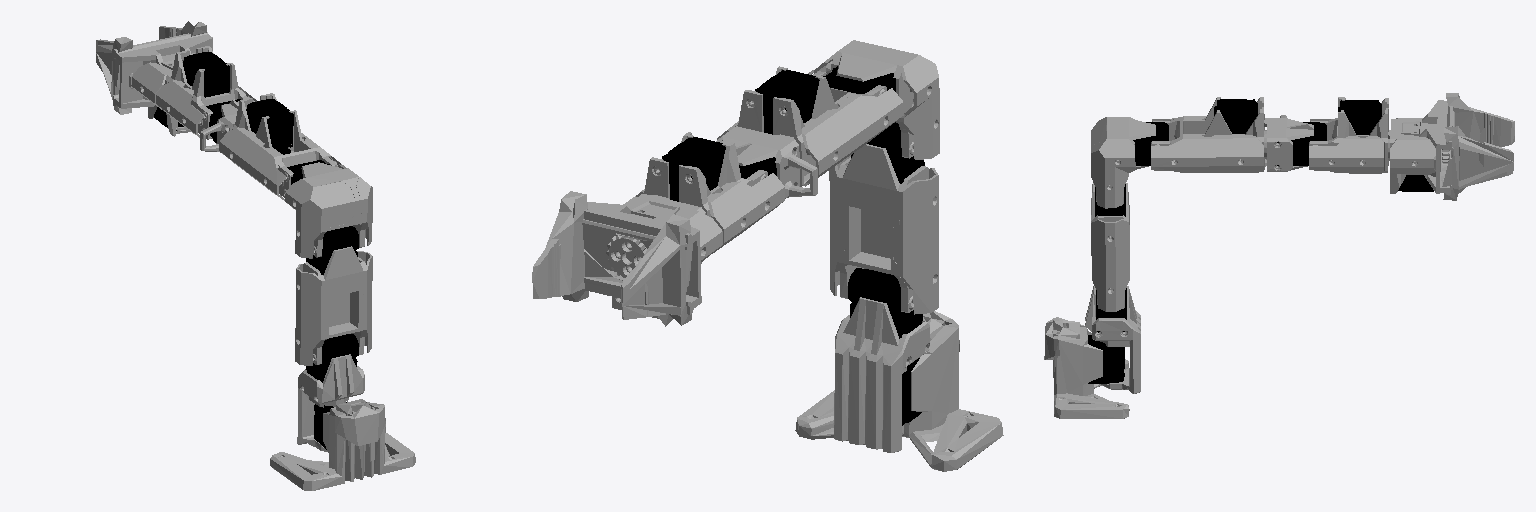
The robot description file, URDF, robot "Elrobot":
<?xml version="1.0" ?>
<robot name="Elrobot" >
  <material name="silver">
    <color rgba="0.700 0.700 0.700 1.000"/>
  </material>
  <material name="ST3215_1_1">
    <color rgba="0.00 0.00 0.00 1.000"/>
  </material>
  <material name="ST3215_2_1">
    <color rgba="0.00 0.00 0.00 1.000"/>
  </material>
  <material name="ST3215_3_1">
    <color rgba="0.00 0.00 0.00 1.000"/>
  </material>
  <material name="ST3215_4_1">
    <color rgba="0.00 0.00 0.00 1.000"/>
  </material>
  <material name="ST3215_5_1">
    <color rgba="0.00 0.00 0.00 1.000"/>
  </material>
  <material name="ST3215_6_1">
    <color rgba="0.00 0.00 0.00 1.000"/>
  </material>
  <material name="ST3215_7_1">
    <color rgba="0.00 0.00 0.00 1.000"/>
  </material>
  <material name="ST3215_8_1">
    <color rgba="0.00 0.00 0.00 1.000"/>
  </material>
  <link name="base_link">
    <inertial>
      <origin xyz="4.1532032114359136e-10 0.013084111185471562 0.019551044495005637" rpy="0 0 0"/>
      <mass value="0.06831242050694149"/>
      <inertia ixx="3.6e-05" iyy="5.9e-05" izz="5.1e-05" ixy="0.0" iyz="8e-06" ixz="-0.0"/>
    </inertial>
    <visual>
      <origin xyz="0 0 0" rpy="0 0 0"/>
      <geometry>
        <mesh filename="base_link.stl" scale="0.001 0.001 0.001"/>
      </geometry>
      <material name="silver"/>
    </visual>
    <collision>
      <origin xyz="0 0 0" rpy="0 0 0"/>
      <geometry>
        <mesh filename="base_link.stl" scale="0.001 0.001 0.001"/>
      </geometry>
    </collision>
  </link>
  <link name="ST3215_1_v1_1">
    <inertial>
      <origin xyz="4.076346987608891e-06 0.022690161600370684 -0.0014235772611572647" rpy="0 0 0"/>
      <mass value="0.03190666159632515"/>
      <inertia ixx="8e-06" iyy="4e-06" izz="7e-06" ixy="0.0" iyz="-0.0" ixz="0.0"/>
    </inertial>
    <visual>
      <origin xyz="-0.0 -0.007585 -0.0315" rpy="0 0 0"/>
      <geometry>
        <mesh filename="ST3215_1_v1_1.stl" scale="0.001 0.001 0.001"/>
      </geometry>
      <material name="ST3215_1_1"/>
    </visual>
    <collision>
      <origin xyz="-0.0 -0.007585 -0.0315" rpy="0 0 0"/>
      <geometry>
        <mesh filename="ST3215_1_v1_1.stl" scale="0.001 0.001 0.001"/>
      </geometry>
    </collision>
  </link>
  <link name="Joint_01_1">
    <inertial>
      <origin xyz="0.00019293358229791917 0.01053544085767251 -0.002903406181002266" rpy="0 0 0"/>
      <mass value="0.036024842090469696"/>
      <inertia ixx="2e-05" iyy="2e-05" izz="1e-05" ixy="0.0" iyz="4e-06" ixz="-0.0"/>
    </inertial>
    <visual>
      <origin xyz="-0.0 -0.042489 -0.049005" rpy="0 0 0"/>
      <geometry>
        <mesh filename="Joint_01_1.stl" scale="0.001 0.001 0.001"/>
      </geometry>
      <material name="silver"/>
    </visual>
    <collision>
      <origin xyz="-0.0 -0.042489 -0.049005" rpy="0 0 0"/>
      <geometry>
        <mesh filename="Joint_01_1.stl" scale="0.001 0.001 0.001"/>
      </geometry>
    </collision>
  </link>
  <link name="ST3215_2_v1_1">
    <inertial>
      <origin xyz="-0.0014235768458915805 -0.00019407288276004214 0.02268943356342234" rpy="0 0 0"/>
      <mass value="0.03190666159632515"/>
      <inertia ixx="7e-06" iyy="8e-06" izz="4e-06" ixy="0.0" iyz="0.0" ixz="-0.0"/>
    </inertial>
    <visual>
      <origin xyz="-0.000625 -0.042431 -0.055705" rpy="0 0 0"/>
      <geometry>
        <mesh filename="ST3215_2_v1_1.stl" scale="0.001 0.001 0.001"/>
      </geometry>
      <material name="ST3215_2_1"/>
    </visual>
    <collision>
      <origin xyz="-0.000625 -0.042431 -0.055705" rpy="0 0 0"/>
      <geometry>
        <mesh filename="ST3215_2_v1_1.stl" scale="0.001 0.001 0.001"/>
      </geometry>
    </collision>
  </link>
  <link name="Joint_02_1">
    <inertial>
      <origin xyz="0.020187292657891796 -0.0003607149418271213 0.04048886553547183" rpy="0 0 0"/>
      <mass value="0.04313419527395414"/>
      <inertia ixx="2.4e-05" iyy="3.4e-05" izz="1.7e-05" ixy="-0.0" iyz="0.0" ixz="0.0"/>
    </inertial>
    <visual>
      <origin xyz="0.019668 -0.042123 -0.090938" rpy="0 0 0"/>
      <geometry>
        <mesh filename="Joint_02_1.stl" scale="0.001 0.001 0.001"/>
      </geometry>
      <material name="silver"/>
    </visual>
    <collision>
      <origin xyz="0.019668 -0.042123 -0.090938" rpy="0 0 0"/>
      <geometry>
        <mesh filename="Joint_02_1.stl" scale="0.001 0.001 0.001"/>
      </geometry>
    </collision>
  </link>
  <link name="ST3215_3_v1_1">
    <inertial>
      <origin xyz="-0.0012258665484379326 -0.00019383890721715036 0.02270059947453923" rpy="0 0 0"/>
      <mass value="0.03190666159632515"/>
      <inertia ixx="7e-06" iyy="8e-06" izz="4e-06" ixy="0.0" iyz="0.0" ixz="-0.0"/>
    </inertial>
    <visual>
      <origin xyz="-0.000195 -0.041636 -0.146765" rpy="0 0 0"/>
      <geometry>
        <mesh filename="ST3215_3_v1_1.stl" scale="0.001 0.001 0.001"/>
      </geometry>
      <material name="ST3215_3_1"/>
    </visual>
    <collision>
      <origin xyz="-0.000195 -0.041636 -0.146765" rpy="0 0 0"/>
      <geometry>
        <mesh filename="ST3215_3_v1_1.stl" scale="0.001 0.001 0.001"/>
      </geometry>
    </collision>
  </link>
  <link name="Joint_03_v1_1">
    <inertial>
      <origin xyz="0.021383489206350224 0.0025973738142313213 0.028573272567347596" rpy="0 0 0"/>
      <mass value="0.03705485612134295"/>
      <inertia ixx="1.1e-05" iyy="1.8e-05" izz="1.5e-05" ixy="0.0" iyz="-1e-06" ixz="-0.0"/>
    </inertial>
    <visual>
      <origin xyz="0.01979 -0.041327 -0.182173" rpy="0 0 0"/>
      <geometry>
        <mesh filename="Joint_03_v1_1.stl" scale="0.001 0.001 0.001"/>
      </geometry>
      <material name="silver"/>
    </visual>
    <collision>
      <origin xyz="0.01979 -0.041327 -0.182173" rpy="0 0 0"/>
      <geometry>
        <mesh filename="Joint_03_v1_1.stl" scale="0.001 0.001 0.001"/>
      </geometry>
    </collision>
  </link>
  <link name="ST3215_4_v1_1">
    <inertial>
      <origin xyz="-0.0014236012890871546 0.022688801414757966 0.00021876985314867037" rpy="0 0 0"/>
      <mass value="0.03190666159632515"/>
      <inertia ixx="7e-06" iyy="4e-06" izz="8e-06" ixy="-0.0" iyz="-0.0" ixz="0.0"/>
    </inertial>
    <visual>
      <origin xyz="-0.001473 -0.04326 -0.218576" rpy="0 0 0"/>
      <geometry>
        <mesh filename="ST3215_4_v1_1.stl" scale="0.001 0.001 0.001"/>
      </geometry>
      <material name="ST3215_4_1"/>
    </visual>
    <collision>
      <origin xyz="-0.001473 -0.04326 -0.218576" rpy="0 0 0"/>
      <geometry>
        <mesh filename="ST3215_4_v1_1.stl" scale="0.001 0.001 0.001"/>
      </geometry>
    </collision>
  </link>
  <link name="Joint_04_v1_1">
    <inertial>
      <origin xyz="0.02041469568271767 0.04634775018812741 0.0004733773672222219" rpy="0 0 0"/>
      <mass value="0.04910540016805011"/>
      <inertia ixx="3.7e-05" iyy="2.1e-05" izz="4.7e-05" ixy="-0.0" iyz="-1e-06" ixz="0.0"/>
    </inertial>
    <visual>
      <origin xyz="0.018817 -0.078489 -0.219238" rpy="0 0 0"/>
      <geometry>
        <mesh filename="Joint_04_v1_1.stl" scale="0.001 0.001 0.001"/>
      </geometry>
      <material name="silver"/>
    </visual>
    <collision>
      <origin xyz="0.018817 -0.078489 -0.219238" rpy="0 0 0"/>
      <geometry>
        <mesh filename="Joint_04_v1_1.stl" scale="0.001 0.001 0.001"/>
      </geometry>
    </collision>
  </link>
  <link name="ST3215_5_v1_1">
    <inertial>
      <origin xyz="0.00038301708111886123 -0.001621005306100043 0.022431224025462493" rpy="0 0 0"/>
      <mass value="0.03190666159632515"/>
      <inertia ixx="8e-06" iyy="7e-06" izz="4e-06" ixy="-0.0" iyz="-0.0" ixz="-0.0"/>
    </inertial>
    <visual>
      <origin xyz="-0.001574 -0.144152 -0.209203" rpy="0 0 0"/>
      <geometry>
        <mesh filename="ST3215_5_v1_1.stl" scale="0.001 0.001 0.001"/>
      </geometry>
      <material name="ST3215_5_1"/>
    </visual>
    <collision>
      <origin xyz="-0.001574 -0.144152 -0.209203" rpy="0 0 0"/>
      <geometry>
        <mesh filename="ST3215_5_v1_1.stl" scale="0.001 0.001 0.001"/>
      </geometry>
    </collision>
  </link>
  <link name="Joint_05_v1_1">
    <inertial>
      <origin xyz="-0.0014511731912585726 0.014886171505002432 0.00023918947669937518" rpy="0 0 0"/>
      <mass value="0.015030395597527186"/>
      <inertia ixx="3e-06" iyy="5e-06" izz="5e-06" ixy="0.0" iyz="-0.0" ixz="0.0"/>
    </inertial>
    <visual>
      <origin xyz="-0.001897 -0.161352 -0.219254" rpy="0 0 0"/>
      <geometry>
        <mesh filename="Joint_05_v1_1.stl" scale="0.001 0.001 0.001"/>
      </geometry>
      <material name="silver"/>
    </visual>
    <collision>
      <origin xyz="-0.001897 -0.161352 -0.219254" rpy="0 0 0"/>
      <geometry>
        <mesh filename="Joint_05_v1_1.stl" scale="0.001 0.001 0.001"/>
      </geometry>
    </collision>
  </link>
  <link name="ST3215_6_v1_1">
    <inertial>
      <origin xyz="-0.0012292541520895308 0.02270120751988408 1.7775252667578956e-05" rpy="0 0 0"/>
      <mass value="0.03190666159632515"/>
      <inertia ixx="7e-06" iyy="4e-06" izz="8e-06" ixy="-0.0" iyz="-0.0" ixz="0.0"/>
    </inertial>
    <visual>
      <origin xyz="-0.001962 -0.168852 -0.219253" rpy="0 0 0"/>
      <geometry>
        <mesh filename="ST3215_6_v1_1.stl" scale="0.001 0.001 0.001"/>
      </geometry>
      <material name="ST3215_6_1"/>
    </visual>
    <collision>
      <origin xyz="-0.001962 -0.168852 -0.219253" rpy="0 0 0"/>
      <geometry>
        <mesh filename="ST3215_6_v1_1.stl" scale="0.001 0.001 0.001"/>
      </geometry>
    </collision>
  </link>
  <link name="Joint_06_v1_1">
    <inertial>
      <origin xyz="0.02043403340818753 0.03197650673728944 0.0003564813588719795" rpy="0 0 0"/>
      <mass value="0.03727709058376948"/>
      <inertia ixx="1.6e-05" iyy="1.6e-05" izz="2.2e-05" ixy="0.0" iyz="-0.0" ixz="0.0"/>
    </inertial>
    <visual>
      <origin xyz="0.018026 -0.204259 -0.219604" rpy="0 0 0"/>
      <geometry>
        <mesh filename="Joint_06_v1_1.stl" scale="0.001 0.001 0.001"/>
      </geometry>
      <material name="silver"/>
    </visual>
    <collision>
      <origin xyz="0.018026 -0.204259 -0.219604" rpy="0 0 0"/>
      <geometry>
        <mesh filename="Joint_06_v1_1.stl" scale="0.001 0.001 0.001"/>
      </geometry>
    </collision>
  </link>
  <link name="ST3215_7_v1_1">
    <inertial>
      <origin xyz="0.00037315403427122225 -0.0014257132266914385 0.022445026183495337" rpy="0 0 0"/>
      <mass value="0.03190666159632515"/>
      <inertia ixx="8e-06" iyy="7e-06" izz="4e-06" ixy="-0.0" iyz="-0.0" ixz="-0.0"/>
    </inertial>
    <visual>
      <origin xyz="-0.002452 -0.242282 -0.208993" rpy="0 0 0"/>
      <geometry>
        <mesh filename="ST3215_7_v1_1.stl" scale="0.001 0.001 0.001"/>
      </geometry>
      <material name="ST3215_7_1"/>
    </visual>
    <collision>
      <origin xyz="-0.002452 -0.242282 -0.208993" rpy="0 0 0"/>
      <geometry>
        <mesh filename="ST3215_7_v1_1.stl" scale="0.001 0.001 0.001"/>
      </geometry>
    </collision>
  </link>
  <link name="Gripper_Base_v1_1">
    <inertial>
      <origin xyz="0.0005605249651253262 0.03191999437655846 -0.0005946931738743111" rpy="0 0 0"/>
      <mass value="0.046895455343164964"/>
      <inertia ixx="2.2e-05" iyy="2.9e-05" izz="3.1e-05" ixy="0.0" iyz="-0.0" ixz="0.0"/>
    </inertial>
    <visual>
      <origin xyz="-0.002925 -0.259566 -0.218892" rpy="0 0 0"/>
      <geometry>
        <mesh filename="Gripper_Base_v1_1.stl" scale="0.001 0.001 0.001"/>
      </geometry>
      <material name="silver"/>
    </visual>
    <collision>
      <origin xyz="-0.002925 -0.259566 -0.218892" rpy="0 0 0"/>
      <geometry>
        <mesh filename="Gripper_Base_v1_1.stl" scale="0.001 0.001 0.001"/>
      </geometry>
    </collision>
  </link>
  <link name="ST3215_8_v1_1">
    <inertial>
      <origin xyz="-0.000545923413501848 -0.018926109262623947 -0.01220636642566475" rpy="0 0 0"/>
      <mass value="0.03190666159632515"/>
      <inertia ixx="8e-06" iyy="7e-06" izz="4e-06" ixy="-0.0" iyz="-0.0" ixz="-0.0"/>
    </inertial>
    <visual>
      <origin xyz="-0.003701 -0.304808 -0.218483" rpy="0 0 0"/>
      <geometry>
        <mesh filename="ST3215_8_v1_1.stl" scale="0.001 0.001 0.001"/>
      </geometry>
      <material name="ST3215_8_1"/>
    </visual>
    <collision>
      <origin xyz="-0.003701 -0.304808 -0.218483" rpy="0 0 0"/>
      <geometry>
        <mesh filename="ST3215_8_v1_1.stl" scale="0.001 0.001 0.001"/>
      </geometry>
    </collision>
  </link>
  <link name="Gripper_Gear_v1_1">
    <inertial>
      <origin xyz="6.406692942733175e-05 0.0037564011470480607 -3.383421367433859e-05" rpy="0 0 0"/>
      <mass value="0.0024790841259162795"/>
      <inertia ixx="0.0" iyy="0.0" izz="0.0" ixy="0.0" iyz="-0.0" ixz="-0.0"/>
    </inertial>
    <visual>
      <origin xyz="-0.003701 -0.304808 -0.218483" rpy="0 0 0"/>
      <geometry>
        <mesh filename="Gripper_Gear_v1_1.stl" scale="0.001 0.001 0.001"/>
      </geometry>
      <material name="silver"/>
    </visual>
    <collision>
      <origin xyz="-0.003701 -0.304808 -0.218483" rpy="0 0 0"/>
      <geometry>
        <mesh filename="Gripper_Gear_v1_1.stl" scale="0.001 0.001 0.001"/>
      </geometry>
    </collision>
  </link>
  <link name="Gripper_Jaw_02_v1_1">
    <inertial>
      <origin xyz="-0.3386809002581644 0.2625921677727179 -0.030316532660763146" rpy="0 0 0"/>
      <mass value="0.012492175356778453"/>
      <inertia ixx="5e-06" iyy="4e-06" izz="3e-06" ixy="0.0" iyz="0.0" ixz="-0.0"/>
    </inertial>
    <visual>
      <origin xyz="-0.314659 -0.059918 -0.251741" rpy="0 0 0"/>
      <geometry>
        <mesh filename="Gripper_Jaw_02_v1_1.stl" scale="0.001 0.001 0.001"/>
      </geometry>
      <material name="silver"/>
    </visual>
    <collision>
      <origin xyz="-0.314659 -0.059918 -0.251741" rpy="0 0 0"/>
      <geometry>
        <mesh filename="Gripper_Jaw_02_v1_1.stl" scale="0.001 0.001 0.001"/>
      </geometry>
    </collision>
  </link>
  <link name="Gripper_Jaw_01_v1_1">
    <inertial>
      <origin xyz="-0.27944183977334625 0.30531580207092573 0.046279678752686765" rpy="0 0 0"/>
      <mass value="0.012492175356778453"/>
      <inertia ixx="5e-06" iyy="4e-06" izz="3e-06" ixy="-0.0" iyz="-0.0" ixz="-0.0"/>
    </inertial>
    <visual>
      <origin xyz="-0.311498 -0.016199 -0.171401" rpy="0 0 0"/>
      <geometry>
        <mesh filename="Gripper_Jaw_01_v1_1.stl" scale="0.001 0.001 0.001"/>
      </geometry>
      <material name="silver"/>
    </visual>
    <collision>
      <origin xyz="-0.311498 -0.016199 -0.171401" rpy="0 0 0"/>
      <geometry>
        <mesh filename="Gripper_Jaw_01_v1_1.stl" scale="0.001 0.001 0.001"/>
      </geometry>
    </collision>
  </link>
  <joint name="Rigid 1" type="fixed">
    <origin xyz="0.0 0.007585 0.0315" rpy="0 0 0"/>
    <parent link="base_link"/>
    <child link="ST3215_1_v1_1"/>
  </joint>
  <joint name="rev_motor_01" type="revolute">
    <origin xyz="0.0 0.034904 0.017505" rpy="0 0 0"/>
    <parent link="ST3215_1_v1_1"/>
    <child link="Joint_01_1"/>
    <axis xyz="0.0 -0.008727 0.999962"/>
    <limit upper="1.5509" lower="-1.5509" effort="2.94" velocity="4.71"/>
  </joint>
  <joint name="Rigid 3" type="fixed">
    <origin xyz="0.000625 -5.8e-05 0.0067" rpy="0 0 0"/>
    <parent link="Joint_01_1"/>
    <child link="ST3215_2_v1_1"/>
  </joint>
  <joint name="rev_motor_02" type="revolute">
    <origin xyz="-0.020293 -0.000308 0.035233" rpy="0 0 0"/>
    <parent link="ST3215_2_v1_1"/>
    <child link="Joint_02_1"/>
    <axis xyz="-0.999962 -7.6e-05 0.008726"/>
    <limit upper="1.6122" lower="-1.6122" effort="2.94" velocity="4.71"/>
  </joint>
  <joint name="Rigid 7" type="fixed">
    <origin xyz="0.019863 -0.000487 0.055827" rpy="0 0 0"/>
    <parent link="Joint_02_1"/>
    <child link="ST3215_3_v1_1"/>
  </joint>
  <joint name="rev_motor_03" type="revolute">
    <origin xyz="-0.019985 -0.000309 0.035408" rpy="0 0 0"/>
    <parent link="ST3215_3_v1_1"/>
    <child link="Joint_03_v1_1"/>
    <axis xyz="-0.999848 -0.000152 0.017452"/>
    <limit upper="1.7610" lower="-1.7610" effort="2.94" velocity="4.71"/>
  </joint>
  <joint name="Rigid 9" type="fixed">
    <origin xyz="0.021263 0.001933 0.036403" rpy="0 0 0"/>
    <parent link="Joint_03_v1_1"/>
    <child link="ST3215_4_v1_1"/>
  </joint>
  <joint name="rev_motor_04" type="revolute">
    <origin xyz="-0.02029 0.035229 0.000662" rpy="0 0 0"/>
    <parent link="ST3215_4_v1_1"/>
    <child link="Joint_04_v1_1"/>
    <axis xyz="-0.99981 0.008574 0.017527"/>
    <limit upper="1.7533" lower="-1.7533" effort="2.94" velocity="4.71"/>
  </joint>
  <joint name="Rigid 11" type="fixed">
    <origin xyz="0.020391 0.065663 -0.010035" rpy="0 0 0"/>
    <parent link="Joint_04_v1_1"/>
    <child link="ST3215_5_v1_1"/>
  </joint>
  <joint name="rev_motor_05" type="revolute">
    <origin xyz="0.000323 0.0172 0.010051" rpy="0 0 0"/>
    <parent link="ST3215_5_v1_1"/>
    <child link="Joint_05_v1_1"/>
    <axis xyz="-0.008573 -0.999963 0.000151"/>
    <limit upper="3.252" lower="-2.62" effort="2.94" velocity="4.71"/>
  </joint>
  <joint name="Rigid 13" type="fixed">
    <origin xyz="6.5e-05 0.0075 -1e-06" rpy="0 0 0"/>
    <parent link="Joint_05_v1_1"/>
    <child link="ST3215_6_v1_1"/>
  </joint>
  <joint name="rev_motor_06" type="revolute">
    <origin xyz="-0.019988 0.035407 0.000351" rpy="0 0 0"/>
    <parent link="ST3215_6_v1_1"/>
    <child link="Joint_06_v1_1"/>
    <axis xyz="-0.999697 0.0173 0.017525"/>
    <limit upper="1.7641" lower="-1.3775" effort="2.94" velocity="4.71"/>
  </joint>
  <joint name="Rigid 15" type="fixed">
    <origin xyz="0.020478 0.038023 -0.010611" rpy="0 0 0"/>
    <parent link="Joint_06_v1_1"/>
    <child link="ST3215_7_v1_1"/>
  </joint>
  <joint name="rev_motor_07" type="revolute">
    <origin xyz="0.000473 0.017284 0.009899" rpy="0 0 0"/>
    <parent link="ST3215_7_v1_1"/>
    <child link="Gripper_Base_v1_1"/>
    <axis xyz="-0.017144 -0.999812 0.009029"/>
    <limit upper="2.7336" lower="-3.2014" effort="2.94" velocity="4.71"/>
  </joint>
  <joint name="Rigid 17" type="fixed">
    <origin xyz="0.000776 0.045242 -0.000409" rpy="0 0 0"/>
    <parent link="Gripper_Base_v1_1"/>
    <child link="ST3215_8_v1_1"/>
  </joint>
<joint name="rev_motor_08" type="revolute">
    <origin xyz="0.0 0.0 0.0" rpy="0 0 0"/>
    <parent link="ST3215_8_v1_1"/>
    <child link="Gripper_Gear_v1_1"/>
    <axis xyz="0.017144 0.999812 -0.009029"/>
    <limit upper="2.2028" lower="0" effort="2.94" velocity="4.71"/>
  </joint>
  <joint name="rev_motor_08_1" type="prismatic">
    <origin xyz="0.311734 -0.199648 0.032849" rpy="0 0 0"/> 
    <parent link="Gripper_Base_v1_1"/>
    <child link="Gripper_Jaw_02_v1_1"/> 
    <axis xyz="-0.999697 0.0173 0.017525"/> 
    <limit upper="0.0" lower="-0.0255" effort="2.94" velocity="4.71"/>
    <mimic joint="rev_motor_08" multiplier="-0.0115" offset="0"/>
  </joint>
  <joint name="rev_motor_08_2" type="prismatic">
    <origin xyz="0.308573 -0.243367 -0.049391" rpy="0 0 0"/>
    <parent link="Gripper_Base_v1_1"/>
    <child link="Gripper_Jaw_01_v1_1"/> 
    <axis xyz="-0.999697 0.0173 0.017525"/> 
    <limit upper="0.0255" lower="0.0" effort="2.94" velocity="4.71"/>
    <mimic joint="rev_motor_08" multiplier="0.0115" offset="0"/>
  </joint>
</robot>

--- What the picture shows (computed from the rendered views, not written in the file) ---
Views: 3 orthographic renders of the robot side by side, from view 1: azimuth 30°, elevation 25°; view 2: azimuth 150°, elevation 25°; view 3: azimuth 270°, elevation 25°.
Robot: Elrobot — 19 links, 18 joints (8 revolute, 2 prismatic, 8 fixed); root link base_link; default pose: all joints at 0.
Links seen in each view (by area): view 1: Joint_02_1, base_link, Joint_03_v1_1, Joint_04_v1_1, Gripper_Base_v1_1, Joint_06_v1_1, Joint_01_1, ST3215_5_v1_1, ST3215_7_v1_1, Gripper_Jaw_02_v1_1, ST3215_2_v1_1, ST3215_3_v1_1 (+1 smaller); view 2: Joint_02_1, Joint_01_1, base_link, Joint_04_v1_1, Gripper_Base_v1_1, Joint_03_v1_1, Joint_06_v1_1, Gripper_Jaw_02_v1_1, Gripper_Jaw_01_v1_1, Joint_05_v1_1, ST3215_2_v1_1, ST3215_7_v1_1 (+5 smaller); view 3: Joint_04_v1_1, base_link, Gripper_Base_v1_1, Joint_06_v1_1, Joint_03_v1_1, Joint_02_1, Gripper_Jaw_01_v1_1, Joint_01_1, Gripper_Jaw_02_v1_1, Joint_05_v1_1, ST3215_5_v1_1, ST3215_7_v1_1 (+3 smaller).
Link boxes in pixels (x1,y1,x2,y2): Joint_02_1: (295,246,372,365); base_link: (270,399,415,490); Joint_03_v1_1: (285,162,372,258); Joint_04_v1_1: (219,93,346,200); Gripper_Base_v1_1: (113,32,212,136); Joint_06_v1_1: (156,46,256,139); Joint_01_1: (297,354,364,451); ST3215_5_v1_1: (246,99,293,154); ST3215_7_v1_1: (183,52,229,97); Gripper_Jaw_02_v1_1: (96,37,132,114); ST3215_2_v1_1: (306,334,358,382); ST3215_3_v1_1: (306,226,358,274); Joint_02_1: (829,144,938,314); Joint_01_1: (834,297,929,452); base_link: (795,311,1003,471); Joint_04_v1_1: (717,66,903,186); Gripper_Base_v1_1: (582,194,722,318); Joint_03_v1_1: (814,40,939,159); Joint_06_v1_1: (636,132,784,252); Gripper_Jaw_02_v1_1: (616,214,692,326); Gripper_Jaw_01_v1_1: (532,191,625,301); Joint_05_v1_1: (716,126,817,198); ST3215_2_v1_1: (848,268,922,338); ST3215_7_v1_1: (662,137,725,201); Joint_04_v1_1: (1151,97,1266,172); base_link: (1044,317,1129,418); Gripper_Base_v1_1: (1388,100,1454,194); Joint_06_v1_1: (1309,97,1388,173); Joint_03_v1_1: (1091,117,1155,208); Joint_02_1: (1091,183,1129,311); Gripper_Jaw_01_v1_1: (1441,126,1513,200); Joint_01_1: (1085,286,1140,393); Gripper_Jaw_02_v1_1: (1446,93,1514,146); Joint_05_v1_1: (1264,115,1313,171); ST3215_5_v1_1: (1214,99,1257,133); ST3215_7_v1_1: (1338,100,1381,134).
Bounding box of the posed robot: 0.1 × 0.3752 × 0.2553 m (x, y, z).
Meshes: 19 distinct files referenced, 19 mesh visuals loaded (19 binary STL).
